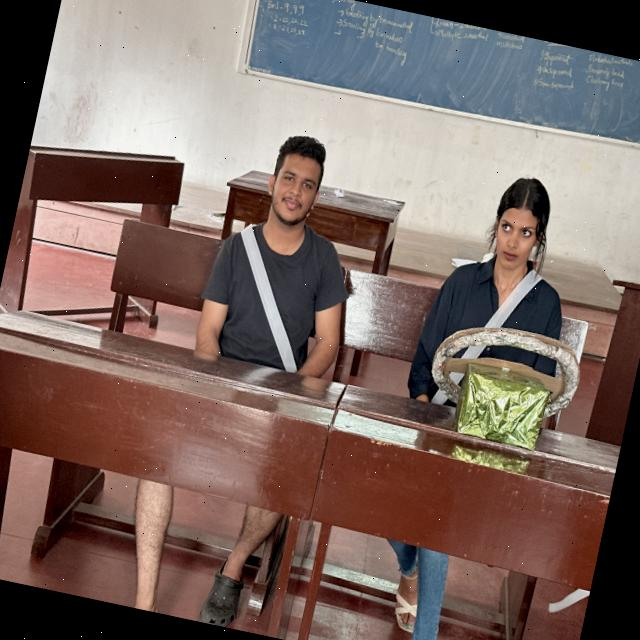seatbelt: (176, 212, 382, 388), (432, 258, 602, 420)
